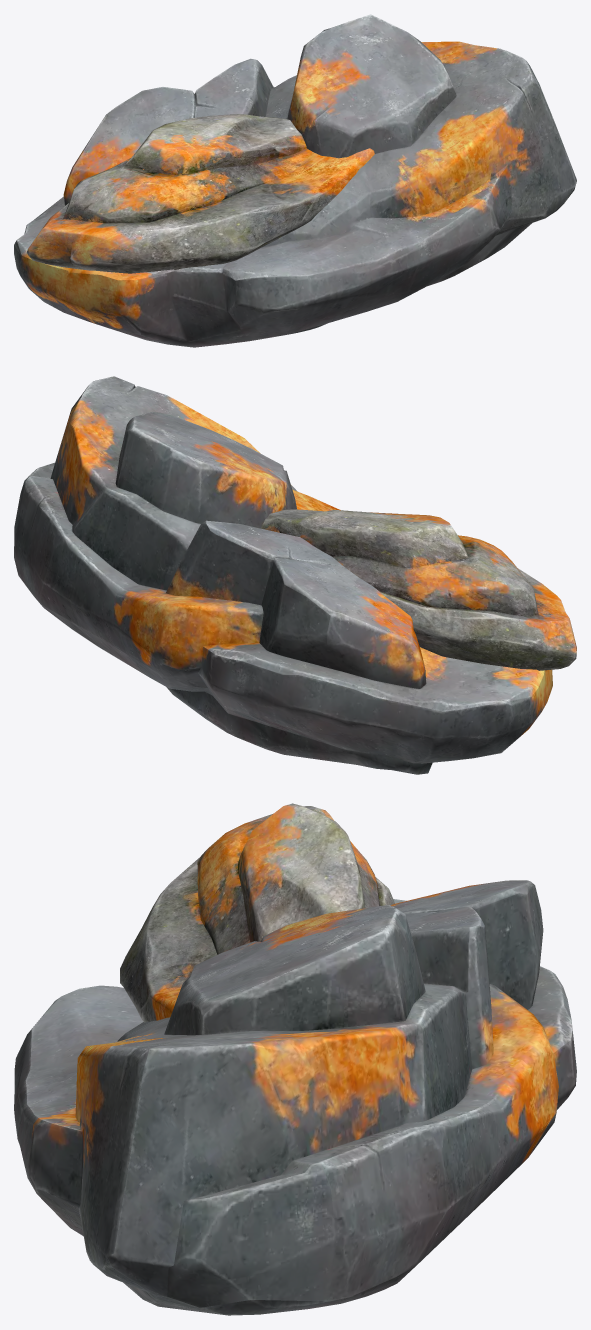
3 renders of one model, top to bottom at view 1: azimuth 30°, elevation 25°; view 2: azimuth 150°, elevation 25°; view 3: azimuth 270°, elevation 25°, orthographic. The views are drawn at different scales.
Parts seen in each view (by area): view 1: SM_Mining_Node_Large_A_LOD0; view 2: SM_Mining_Node_Large_A_LOD0; view 3: SM_Mining_Node_Large_A_LOD0.
Boxes of the visible parts, x1,y1,x2,y2 form: SM_Mining_Node_Large_A_LOD0: (14,14,576,347); SM_Mining_Node_Large_A_LOD0: (14,376,576,774); SM_Mining_Node_Large_A_LOD0: (14,803,576,1315).
Bounding box in the file's own units: 5.14 × 2.49 × 2.99.
Materials: 2 (2 with a texture image).
